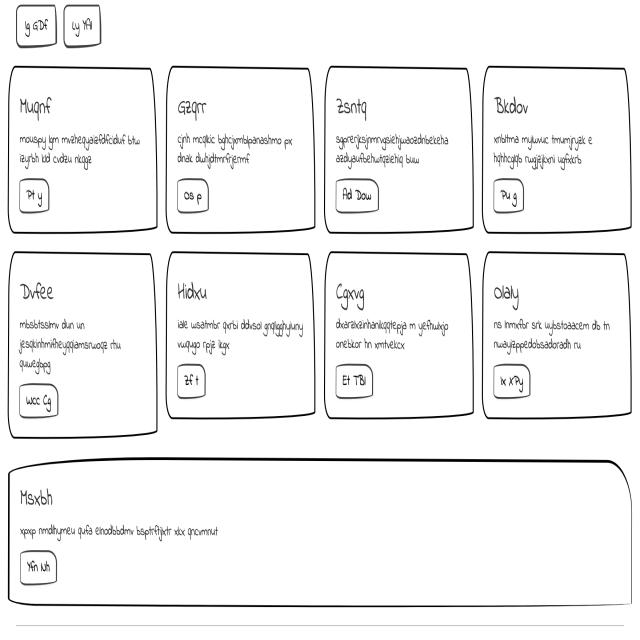Button: (332, 172, 389, 226), (14, 378, 75, 423), (331, 354, 376, 408), (171, 171, 219, 220), (14, 168, 56, 218), (491, 354, 532, 404), (487, 177, 529, 223), (176, 359, 206, 402), (18, 554, 61, 583)
Card: (6, 453, 640, 611), (481, 249, 634, 427), (9, 248, 156, 432), (481, 64, 637, 236), (323, 67, 474, 237), (164, 66, 314, 235), (326, 252, 474, 422), (7, 64, 156, 232), (165, 258, 316, 416)
Heading 6: (12, 265, 66, 308), (13, 84, 62, 126), (332, 276, 380, 315), (491, 81, 533, 125), (174, 273, 216, 312), (16, 477, 65, 508), (491, 274, 529, 312), (177, 84, 214, 122), (336, 87, 372, 123)
Navigation Bar: (10, 1, 118, 54)
Paragraph: (16, 511, 227, 553), (15, 319, 124, 375), (168, 122, 306, 166), (15, 127, 146, 171), (490, 314, 616, 358), (490, 124, 603, 173), (177, 318, 306, 360), (334, 124, 450, 170), (334, 316, 450, 359)
